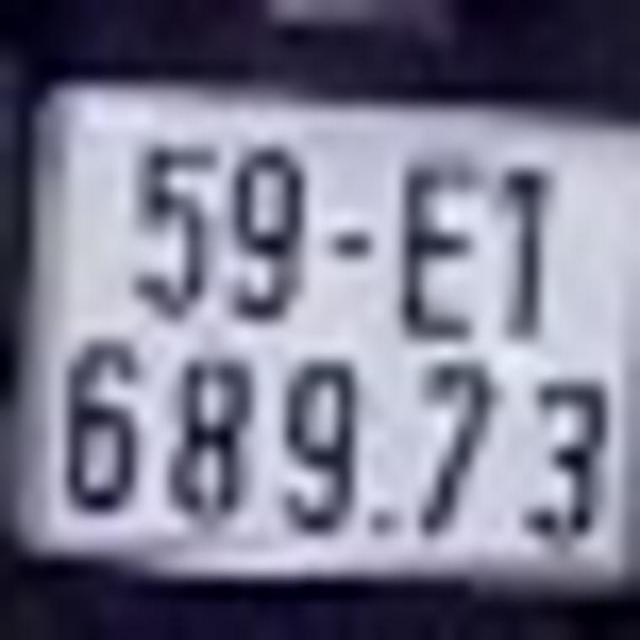1: (488, 128, 551, 337)
3: (508, 360, 614, 558)
5: (133, 134, 219, 324)
6: (57, 330, 145, 520)
7: (405, 347, 488, 551)
8: (173, 348, 247, 536)
9: (269, 340, 359, 534), (226, 140, 305, 324)
E: (389, 146, 487, 344)
